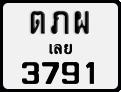letters: (50, 10, 70, 35), (61, 61, 81, 85), (21, 60, 40, 85), (41, 61, 60, 85), (73, 9, 90, 35), (30, 10, 46, 35), (85, 61, 95, 85)
province: (48, 43, 73, 55)
